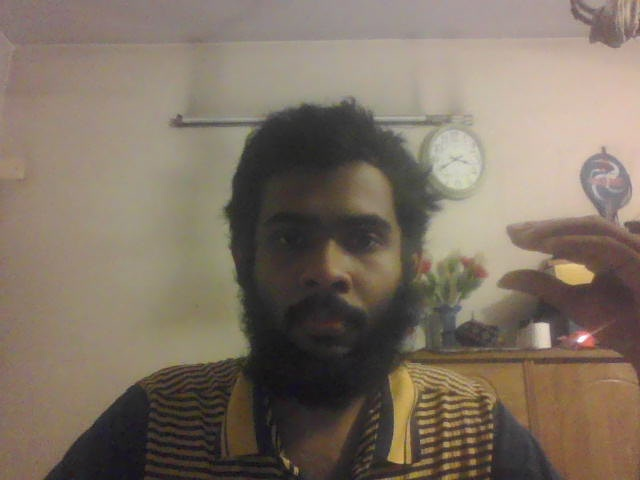No: (496, 217, 640, 355)
